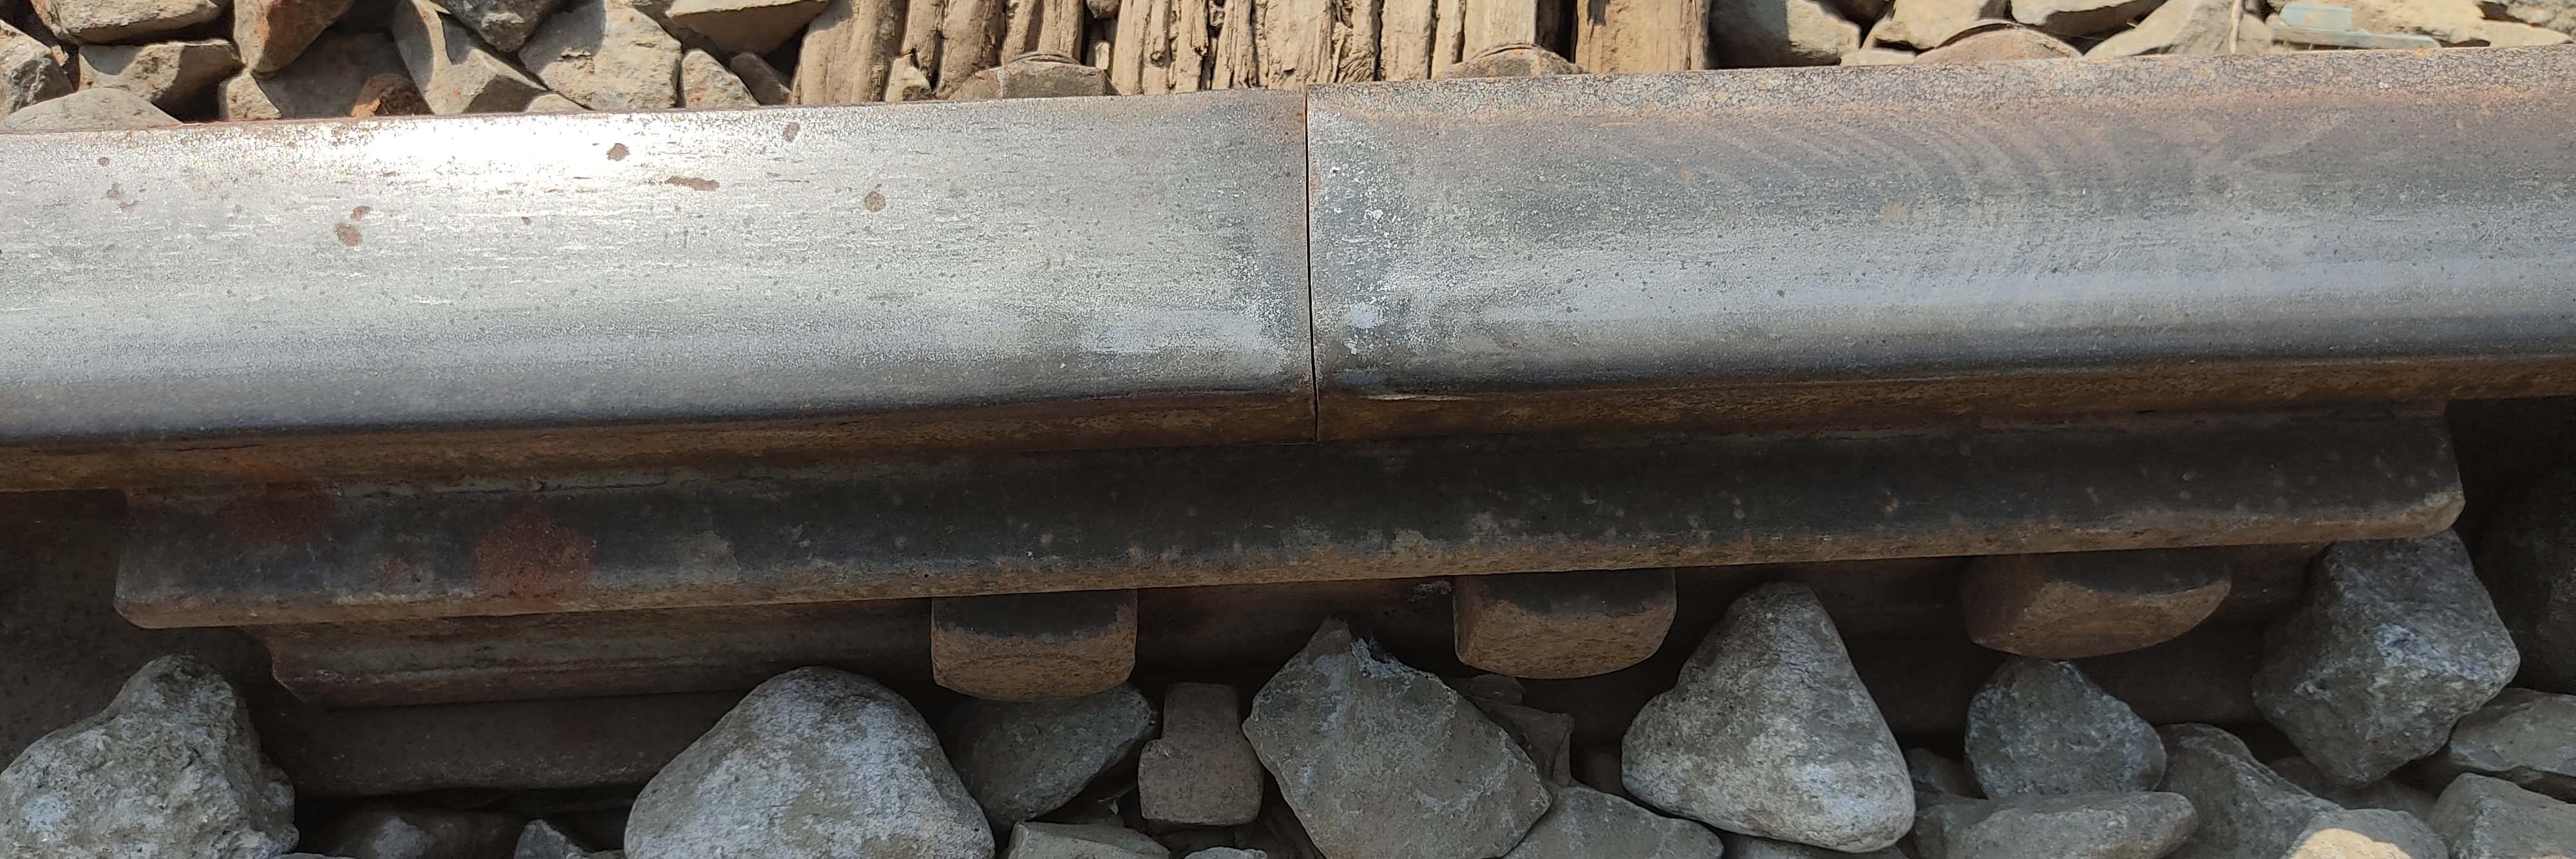error2: (1263, 72, 1382, 531)
